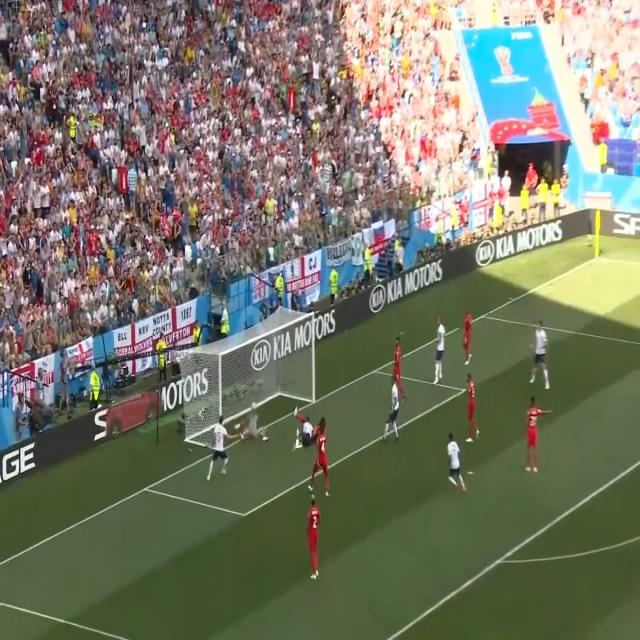player: (523, 398, 552, 474), (527, 320, 551, 396), (310, 419, 332, 499), (208, 414, 232, 482), (305, 497, 323, 584), (446, 432, 468, 500), (466, 372, 483, 455), (383, 373, 402, 442), (433, 317, 447, 392), (291, 404, 313, 450), (462, 306, 474, 369), (393, 336, 405, 374)
